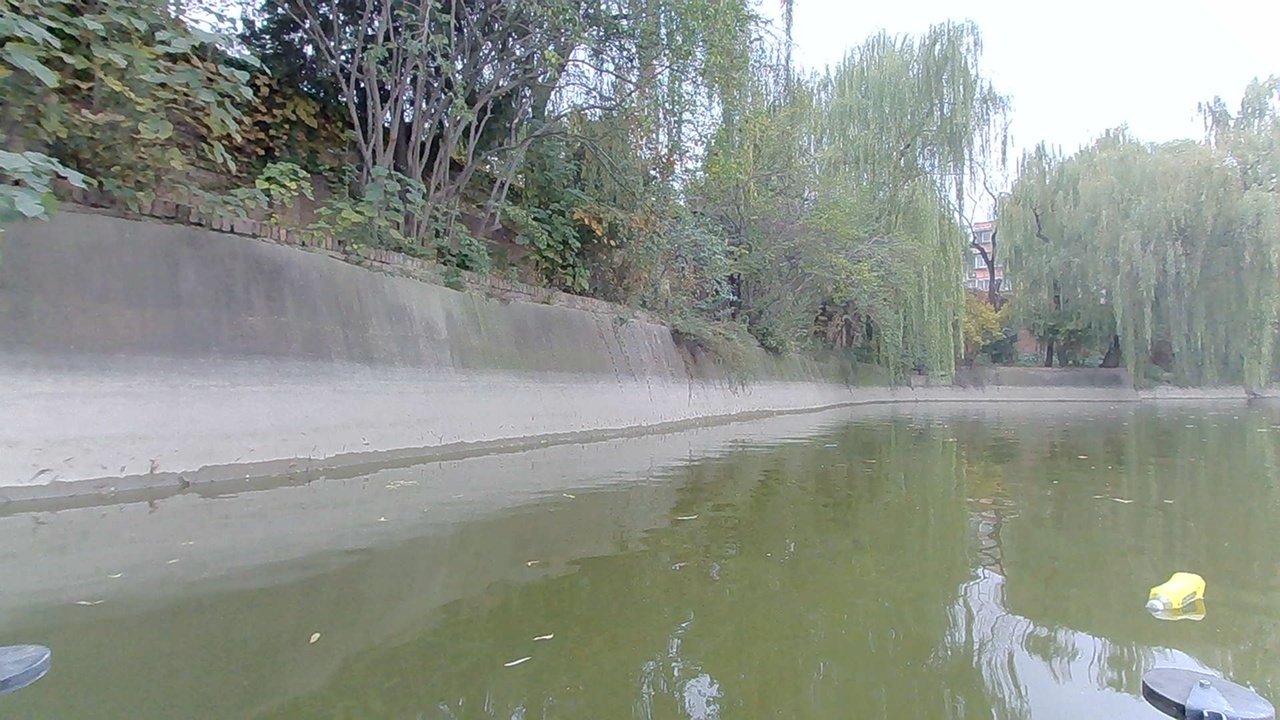bottle: (1142, 570, 1216, 623)
